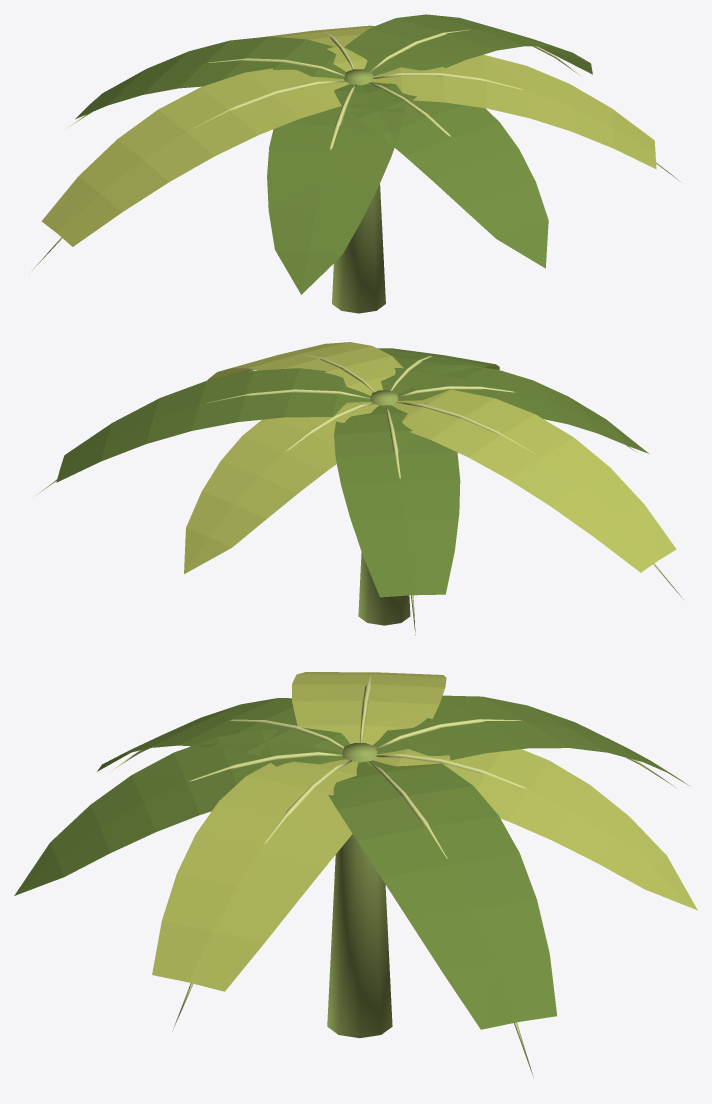
File: banana_plant.glb
3 views of the same model, one above another, from view 1: azimuth 30°, elevation 25°; view 2: azimuth 150°, elevation 25°; view 3: azimuth 270°, elevation 25° (orthographic). The views are drawn at different scales.
Parts seen in each view (by area): view 1: main__banana_leaf_dark_flat, main__banana_leaf_flat, main__banana_stem, main__banana_rib; view 2: main__banana_leaf_dark_flat, main__banana_leaf_flat, main__banana_rib, main__banana_stem; view 3: main__banana_leaf_dark_flat, main__banana_leaf_flat, main__banana_stem, main__banana_rib.
Boxes of the visible parts, x1,y1,x2,y2 form: main__banana_leaf_dark_flat: (75,14,592,294); main__banana_leaf_flat: (41,25,656,246); main__banana_stem: (332,69,385,313); main__banana_rib: (29,29,681,273); main__banana_leaf_dark_flat: (56,348,648,597); main__banana_leaf_flat: (184,342,676,573); main__banana_rib: (32,354,683,635); main__banana_stem: (358,390,410,625); main__banana_leaf_dark_flat: (14,695,688,1029); main__banana_leaf_flat: (152,672,697,991); main__banana_stem: (327,743,392,1038); main__banana_rib: (31,676,675,1077).
Size of the model in its own units: 4.61 by 1.57 by 3.51.
